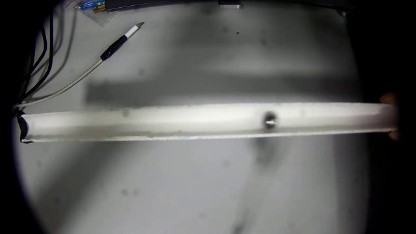gangzhu: (258, 110, 282, 132)
